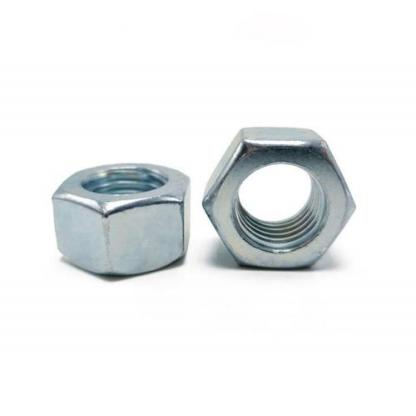FOD: (200, 122, 358, 272), (45, 160, 194, 280)
